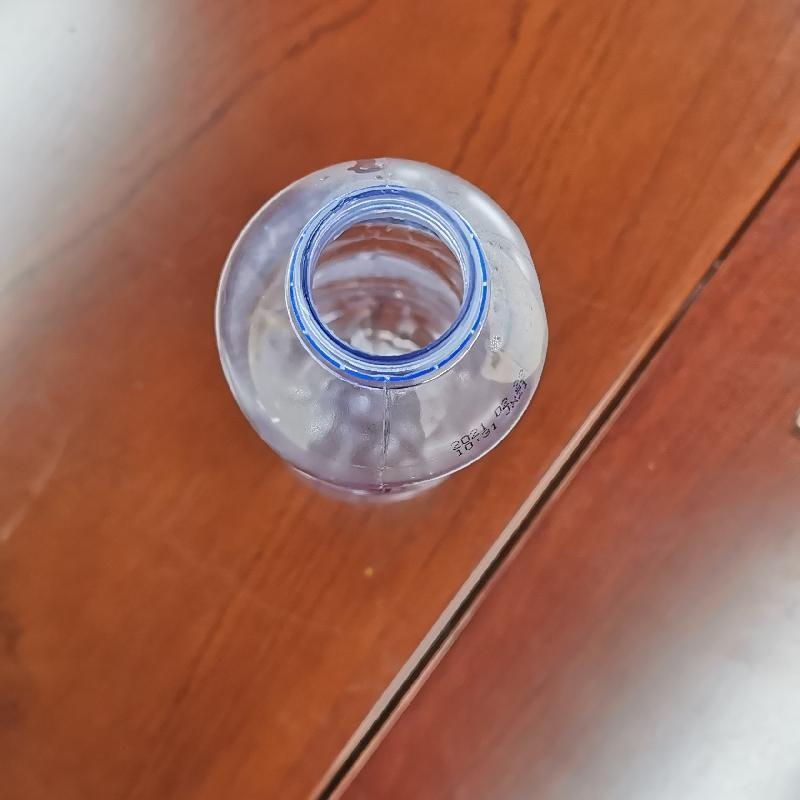bottles: (213, 149, 551, 508)
